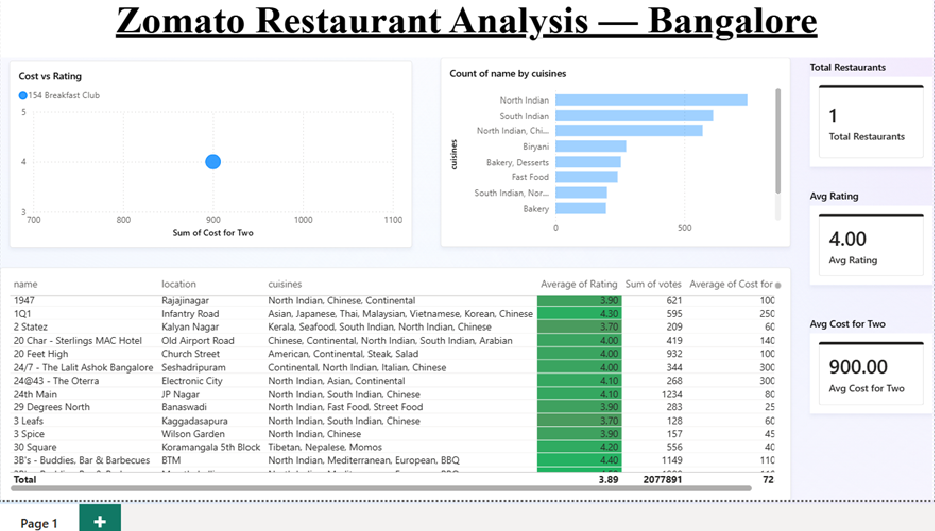

The page's visual inventory and layout, read from the dashboard file:
{"tool":"powerbi","page":{"name":"Page 1","canvas":[1280,720],"ordinal":0},"visuals":[{"type":"cardVisual","title":"Total Restaurants","fields":{"Data":["zomato.Total Restaurants"]},"box":[1111.2,92.6,168.2,151.2],"z":0},{"type":"cardVisual","title":"Avg Rating","fields":{"Data":["zomato.Avg Rating"]},"box":[1111.2,275.9,139.8,138],"z":1},{"type":"cardVisual","title":"Avg Cost for Two","fields":{"Data":["zomato.Avg Cost for Two"]},"box":[1111.2,459.2,168.2,119.1],"z":2},{"type":"scatterChart","title":"Cost vs Rating","fields":{"X":["Sum(zomato.Cost for Two)"],"Y":["Sum(zomato.Rating)"],"Size":["Sum(zomato.votes)"],"Series":["zomato.name"]},"box":[13.2,92.6,551.8,266.5],"z":3},{"type":"clusteredBarChart","fields":{"Category":["zomato.cuisines"],"Y":["CountNonNull(zomato.name)"]},"box":[604.7,88.8,480,270.2],"z":4},{"type":"tableEx","fields":{"Values":["zomato.name","zomato.location","zomato.cuisines","Avg(zomato.Rating)","Sum(zomato.votes)","Avg(zomato.Cost for Two)"]},"box":[0,389.3,1111.2,330.7],"z":5},{"type":"textbox","box":[0,0,1279.4,88.8],"z":6}]}

Visuals, with their boxes on the page's 1280x720 design canvas (x1, y1, x2, y2). These are canvas units, not pixel positions in the 935x531 screenshot, which may show the page scaled, cropped or inside an application window:
"Total Restaurants" cardVisual: bbox=[1111, 93, 1279, 244]
"Avg Rating" cardVisual: bbox=[1111, 276, 1251, 414]
"Avg Cost for Two" cardVisual: bbox=[1111, 459, 1279, 578]
"Cost vs Rating" scatterChart: bbox=[13, 93, 565, 359]
clusteredBarChart - zomato.cuisines x CountNonNull(zomato.name): bbox=[605, 89, 1085, 359]
tableEx - zomato.name x zomato.location: bbox=[0, 389, 1111, 720]
textbox: bbox=[0, 0, 1279, 89]
